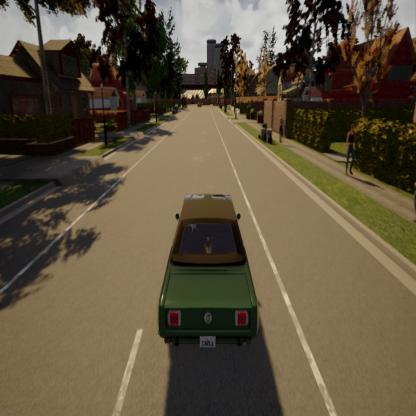Cars: (144, 167, 268, 360)
Pedestrian: (336, 112, 360, 190), (274, 105, 292, 160)
